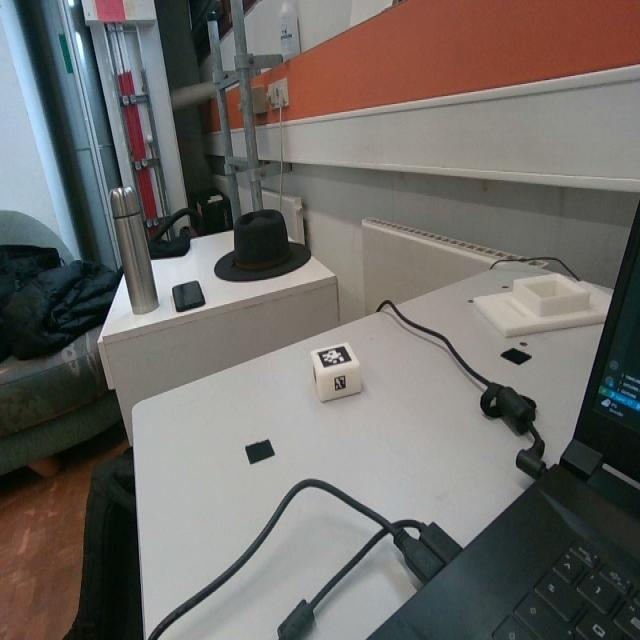Cube: (310, 340, 362, 404)
